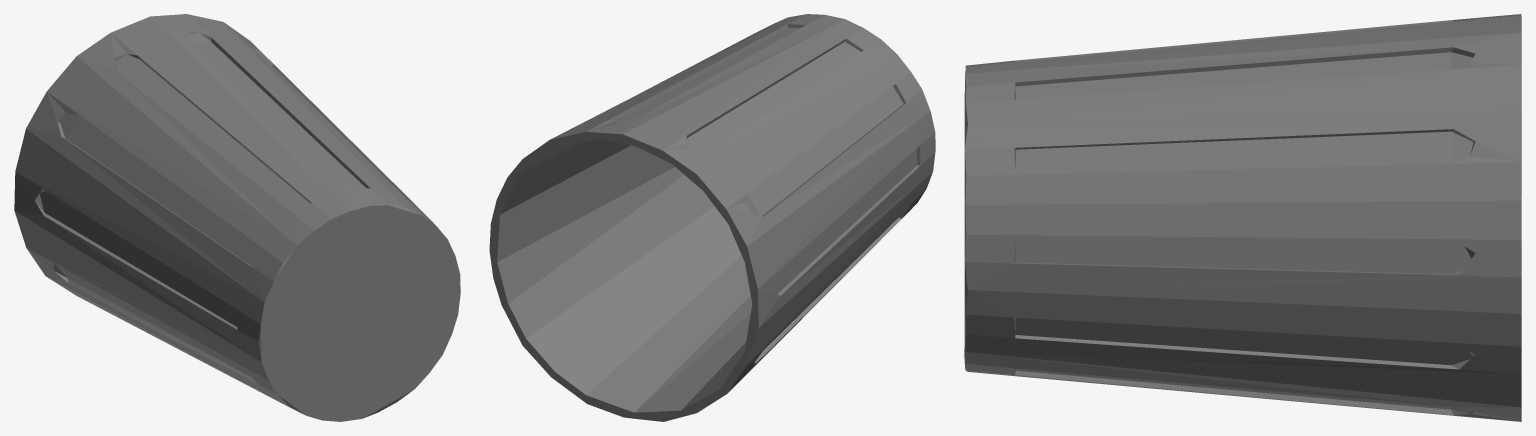
The model's file is TrashCan03.fbx.
The picture shows the model from 3 angles, left to right: view 1: azimuth 30°, elevation 25°; view 2: azimuth 150°, elevation 25°; view 3: azimuth 270°, elevation 25°; orthographic projection. The views are drawn at different scales.
Parts seen in each view (by area): view 1: Cylinder.006; view 2: Cylinder.006; view 3: Cylinder.006.
Boxes of the visible parts, x1,y1,x2,y2 form: Cylinder.006: [14, 14, 460, 421]; Cylinder.006: [489, 14, 935, 421]; Cylinder.006: [964, 14, 1521, 421].
Size of the model in its own units: 1.46 by 1.47 by 1.99.
1 material, 1 textured.
